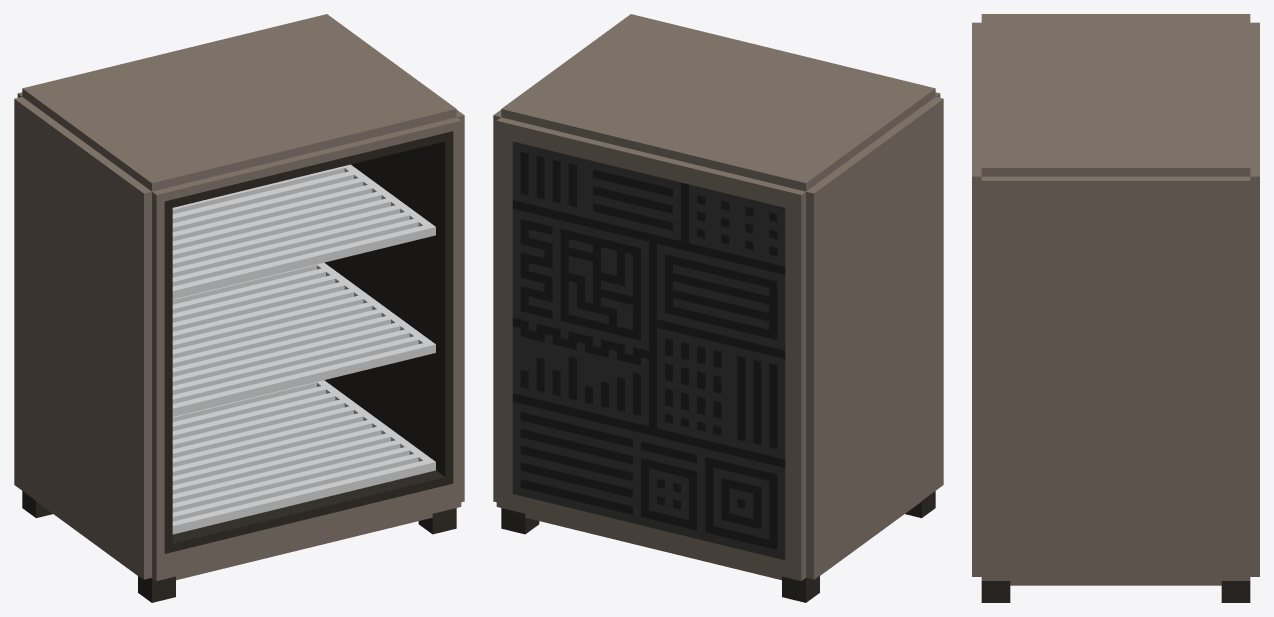
File: Meat Refrigerator_Empty.obj
3 views of the same model, side by side, from view 1: azimuth 30°, elevation 25°; view 2: azimuth 150°, elevation 25°; view 3: azimuth 270°, elevation 25° (orthographic). The views are drawn at different scales.
Size of the model in its own units: 4 by 5 by 3.
Materials: 1 (1 with a texture image).
